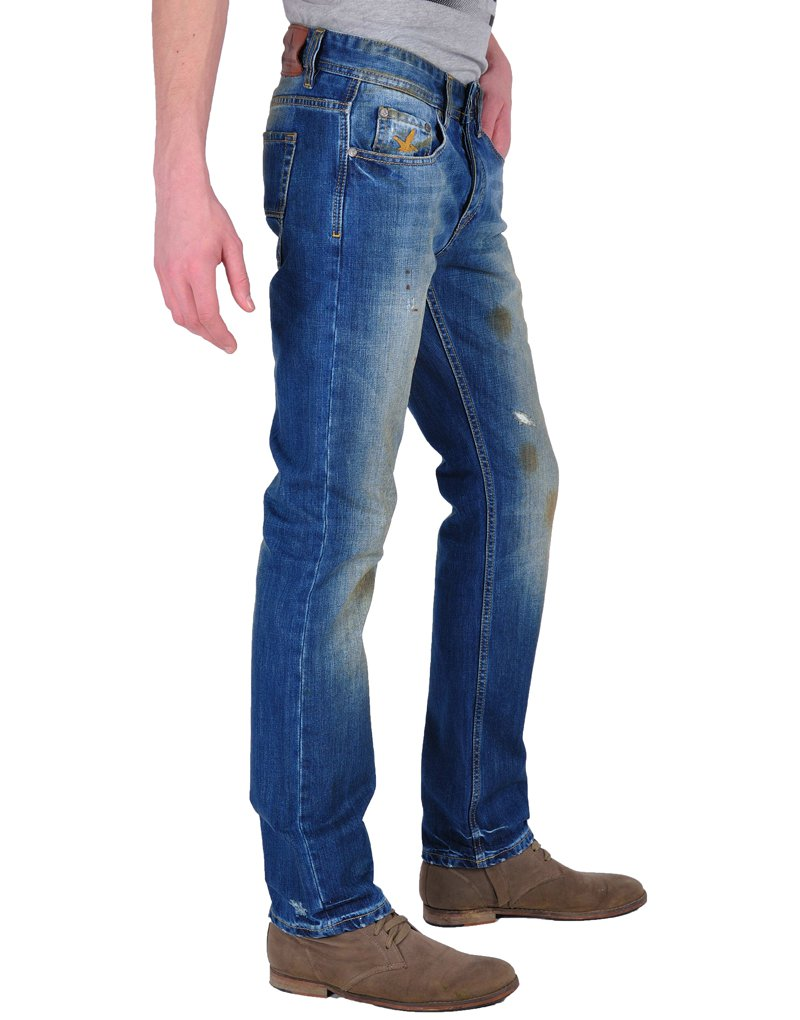flexible: (247, 14, 554, 936)
